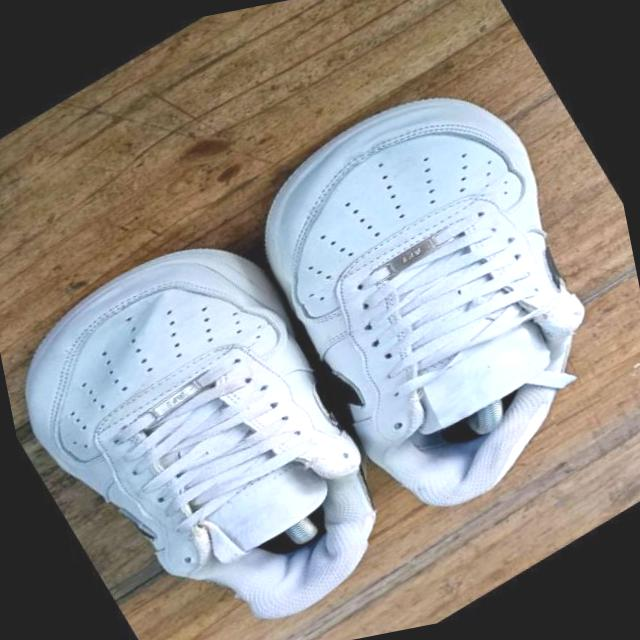nike_fake_airforce: (193, 31, 640, 564), (0, 183, 445, 640)
